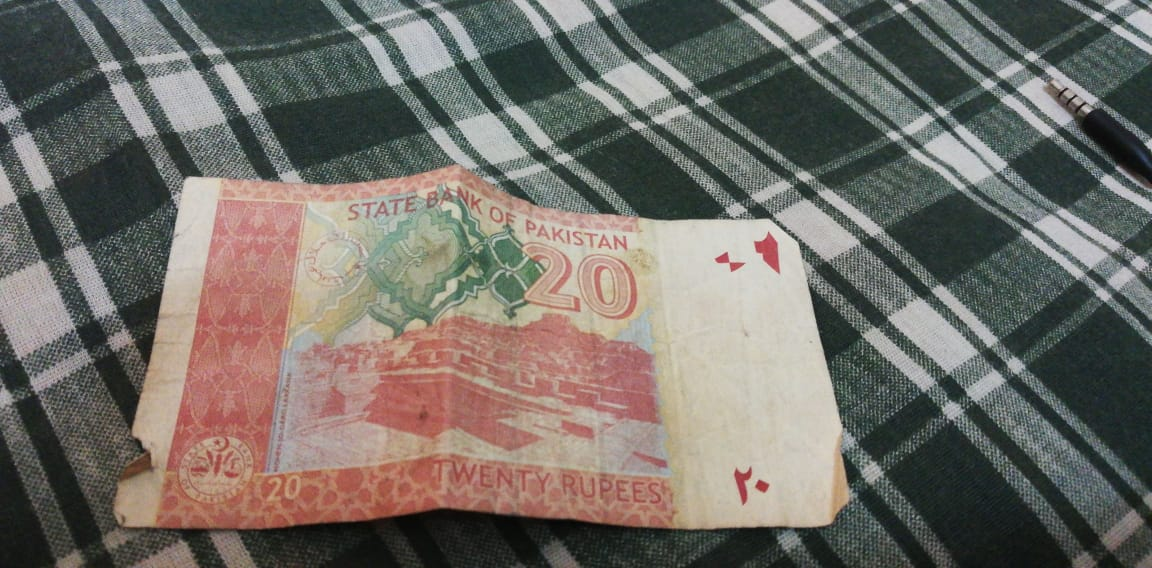20 rupee: (102, 158, 867, 563)
